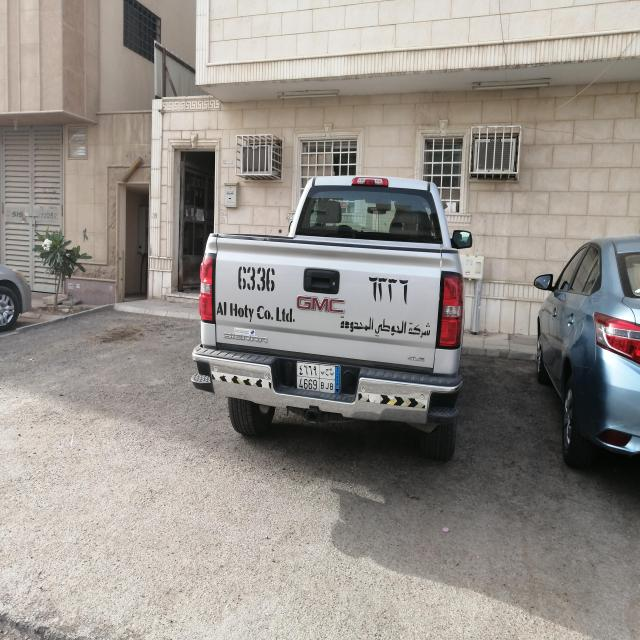license_plate: (296, 362, 341, 394)
